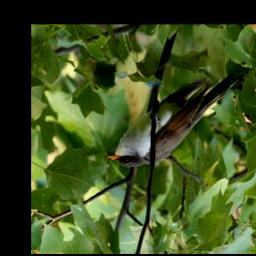Cuckoo: (108, 74, 250, 172)
